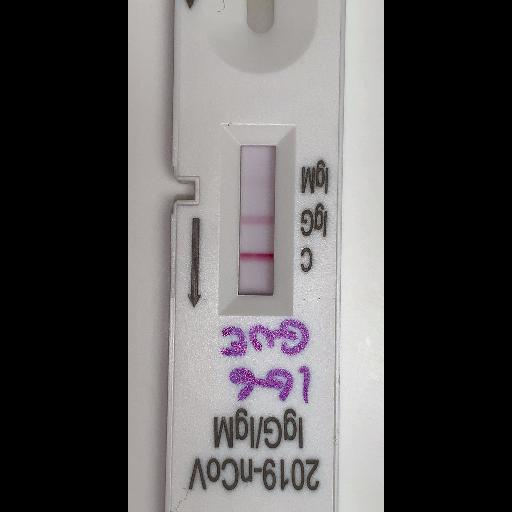Pos: (176, 0, 336, 510)
